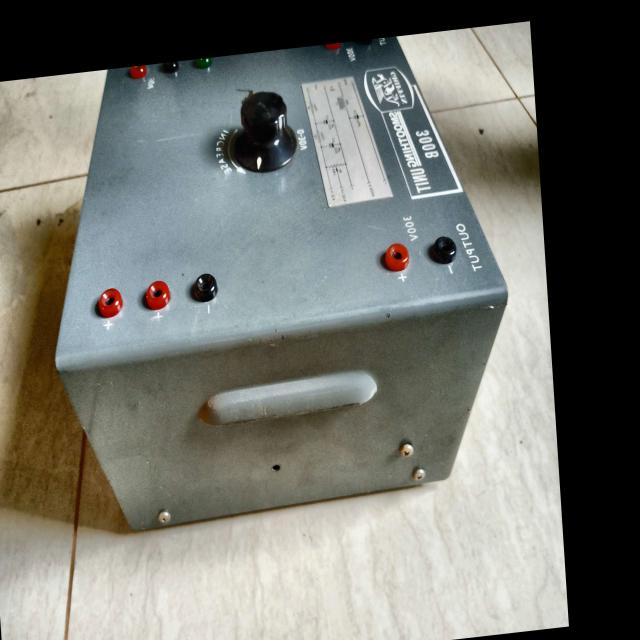Smoothing Unit: (34, 24, 532, 574)
